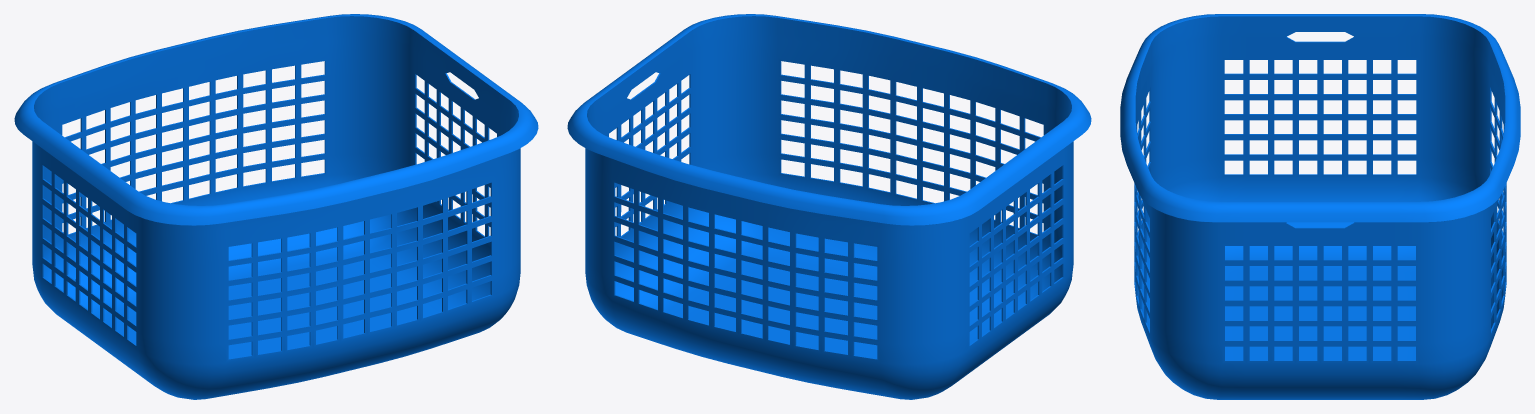
File: laundry_basket.glb
The picture shows the model from 3 angles, left to right: view 1: azimuth 30°, elevation 25°; view 2: azimuth 150°, elevation 25°; view 3: azimuth 270°, elevation 25°; orthographic projection. The views are drawn at different scales.
Visible parts, largest first — view 1: Object_2; view 2: Object_2; view 3: Object_2.
Part boxes in pixels (bbox=[...]): Object_2: bbox=[14, 14, 538, 399]; Object_2: bbox=[567, 14, 1091, 399]; Object_2: bbox=[1120, 14, 1520, 399].
Size of the model in its own units: 2.97 by 1.5 by 2.5.
